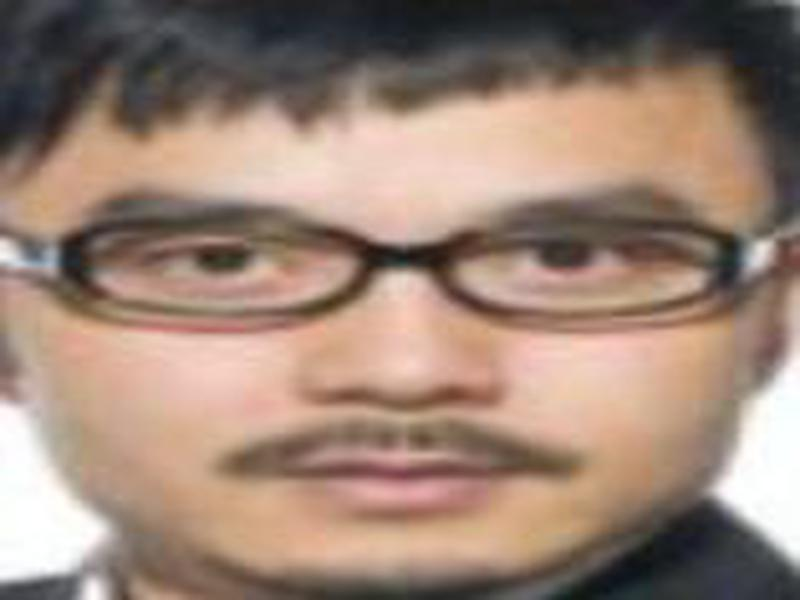without_mask: (11, 84, 772, 589)
